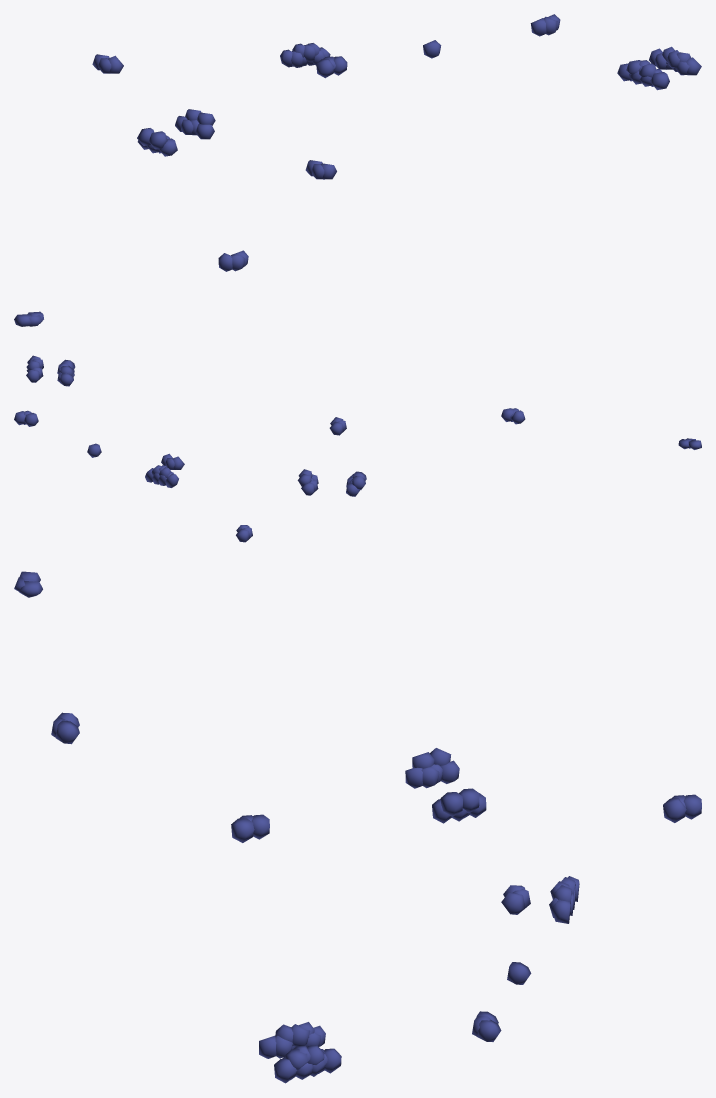
The picture shows the model from 3 angles, top to bottom: view 1: azimuth 30°, elevation 25°; view 2: azimuth 150°, elevation 25°; view 3: azimuth 270°, elevation 25°; orthographic projection. The views are drawn at different scales.
Parts seen in each view (by area): view 1: 川岩; view 2: 川岩; view 3: 川岩.
Part boxes in pixels (x1,y1,x2,y2): 川岩: (14, 14, 701, 326); 川岩: (14, 355, 701, 542); 川岩: (14, 571, 701, 1083).
Bounding box in the file's own units: 88.86 × 3.15 × 52.57.
